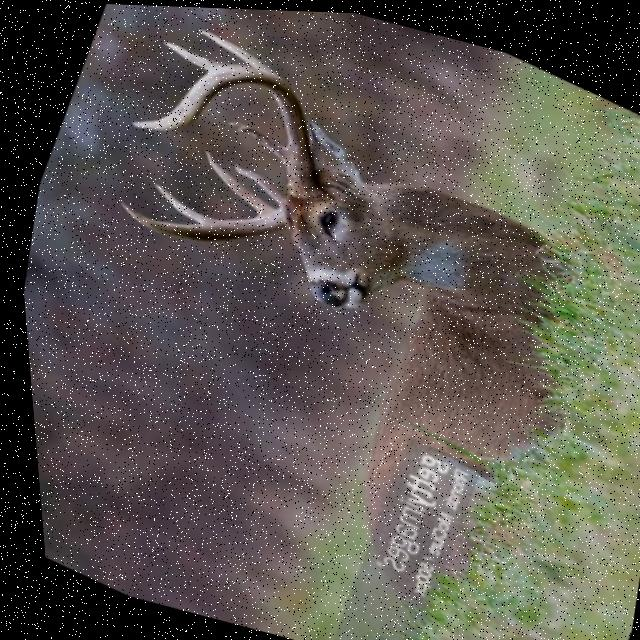L-F: (115, 200, 284, 240)
L-G1: (230, 161, 283, 203)
L-G2: (200, 146, 271, 212)
L-G3: (149, 181, 208, 222)
R-F: (127, 61, 327, 198)
R-G1: (223, 119, 283, 159)
R-G2: (194, 26, 285, 79)
R-G3: (160, 39, 219, 69)
